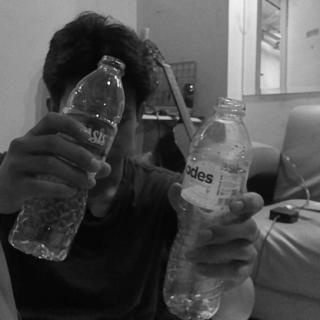plastic_bottles: (8, 50, 126, 257), (162, 97, 249, 316)
